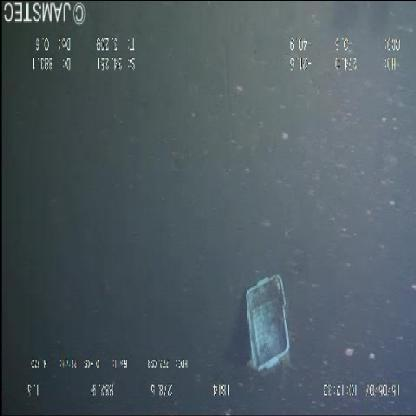Rác: (242, 264, 298, 388)
